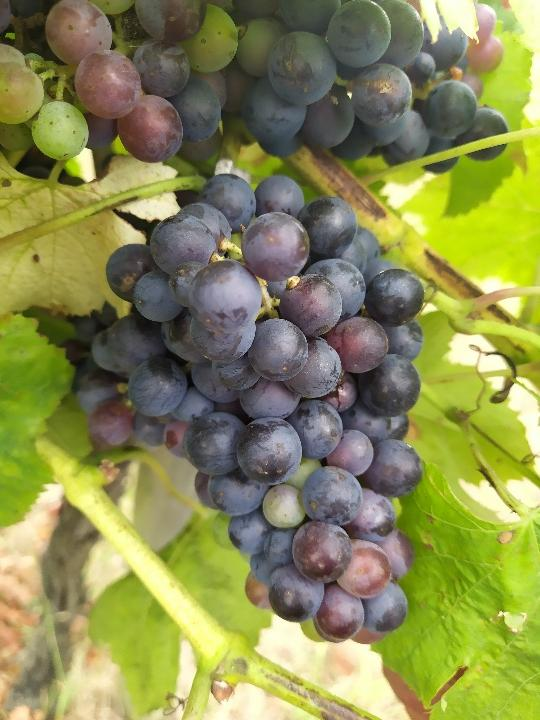grape: (82, 166, 432, 651)
